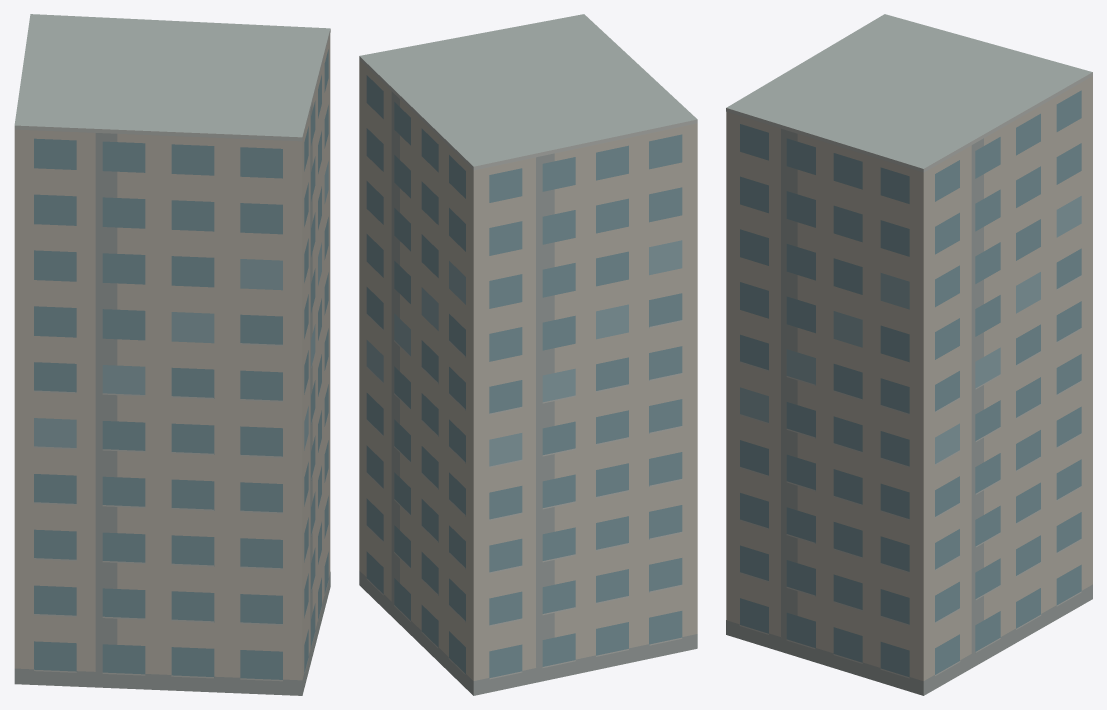
The model's file is residential-4b97733b-5a5e-4c41-897a-403671ea2036.glb.
3 views of the same model, side by side, from view 1: azimuth 30°, elevation 25°; view 2: azimuth 150°, elevation 25°; view 3: azimuth 270°, elevation 25° (orthographic). The views are drawn at different scales.
Visible parts, largest first — view 1: residential-4b97733b-5a5e-4c41-897a-403671ea2036.tmp; view 2: residential-4b97733b-5a5e-4c41-897a-403671ea2036.tmp; view 3: residential-4b97733b-5a5e-4c41-897a-403671ea2036.tmp.
Part boxes in pixels (x1,y1,x2,y2): residential-4b97733b-5a5e-4c41-897a-403671ea2036.tmp: (14, 14, 330, 695); residential-4b97733b-5a5e-4c41-897a-403671ea2036.tmp: (359, 14, 697, 695); residential-4b97733b-5a5e-4c41-897a-403671ea2036.tmp: (726, 14, 1092, 695).
Bounding box in the file's own units: 21.45 × 34 × 21.45.
